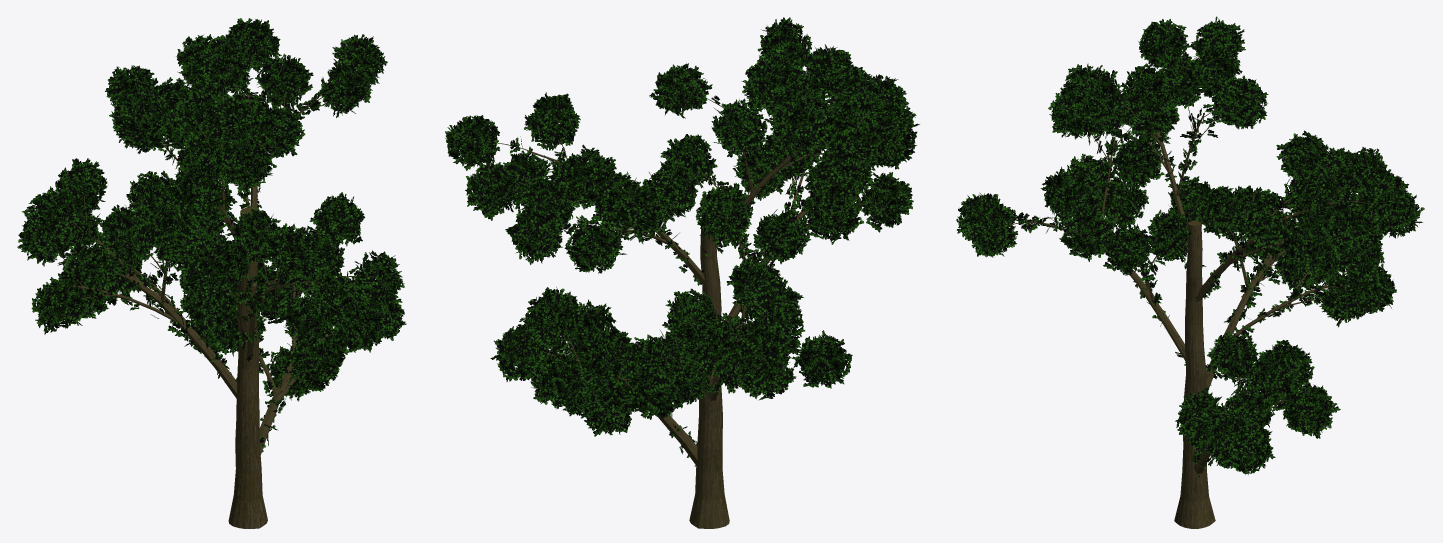
Rendered from evergreen_broad_v03.fbx.
The picture shows the model from 3 angles, left to right: view 1: azimuth 30°, elevation 25°; view 2: azimuth 150°, elevation 25°; view 3: azimuth 270°, elevation 25°; orthographic projection. The views are drawn at different scales.
Visible parts, largest first — view 1: evergreen_broad_v03; view 2: evergreen_broad_v03; view 3: evergreen_broad_v03.
Boxes of the visible parts, box(x1,y1,x2,y2) form: evergreen_broad_v03: box(17, 18, 406, 528); evergreen_broad_v03: box(445, 17, 919, 528); evergreen_broad_v03: box(956, 16, 1424, 528).
Size of the model in its own units: 2232 by 2546 by 2672.
2 materials, 2 textured.
